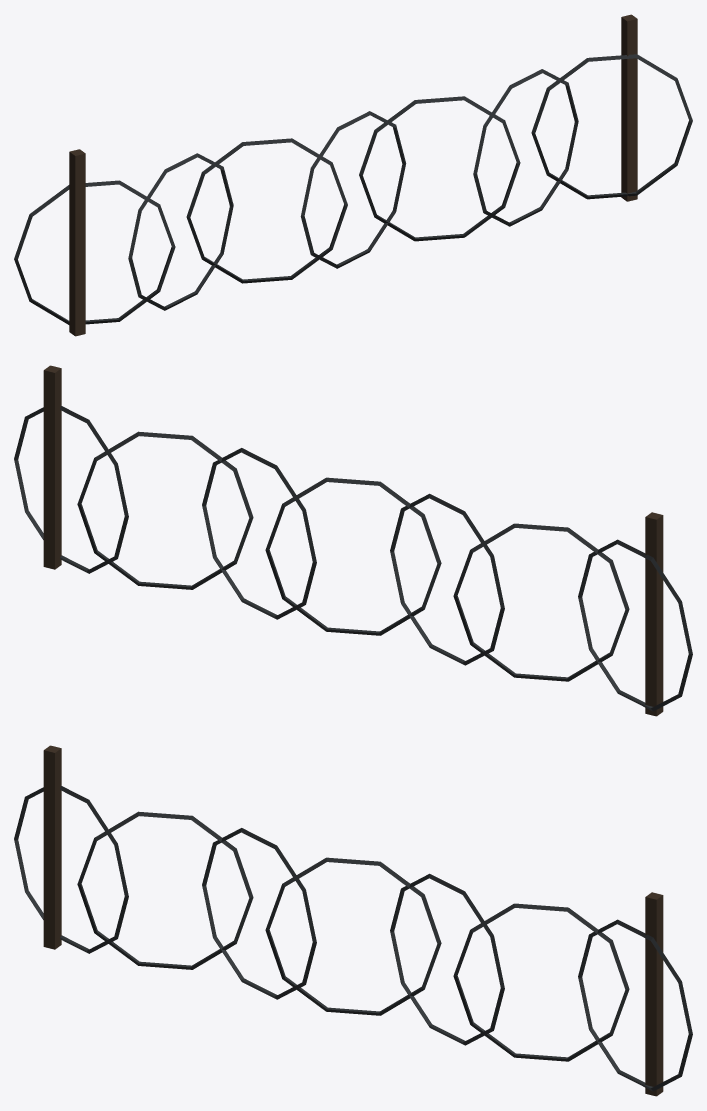
The model's file is Barbed_Wire.fbx.
3 views of the same model, one above another, from view 1: azimuth 30°, elevation 25°; view 2: azimuth 150°, elevation 25°; view 3: azimuth 330°, elevation 25° (orthographic). The views are drawn at different scales.
Visible parts, largest first — view 1: Barbed_Wire; view 2: Barbed_Wire; view 3: Barbed_Wire.
Part boxes in pixels (x1,y1,x2,y2): Barbed_Wire: (14,14,692,336); Barbed_Wire: (14,365,692,716); Barbed_Wire: (14,745,692,1096).
Bounding box in the file's own units: 3.77 × 1 × 0.289.
